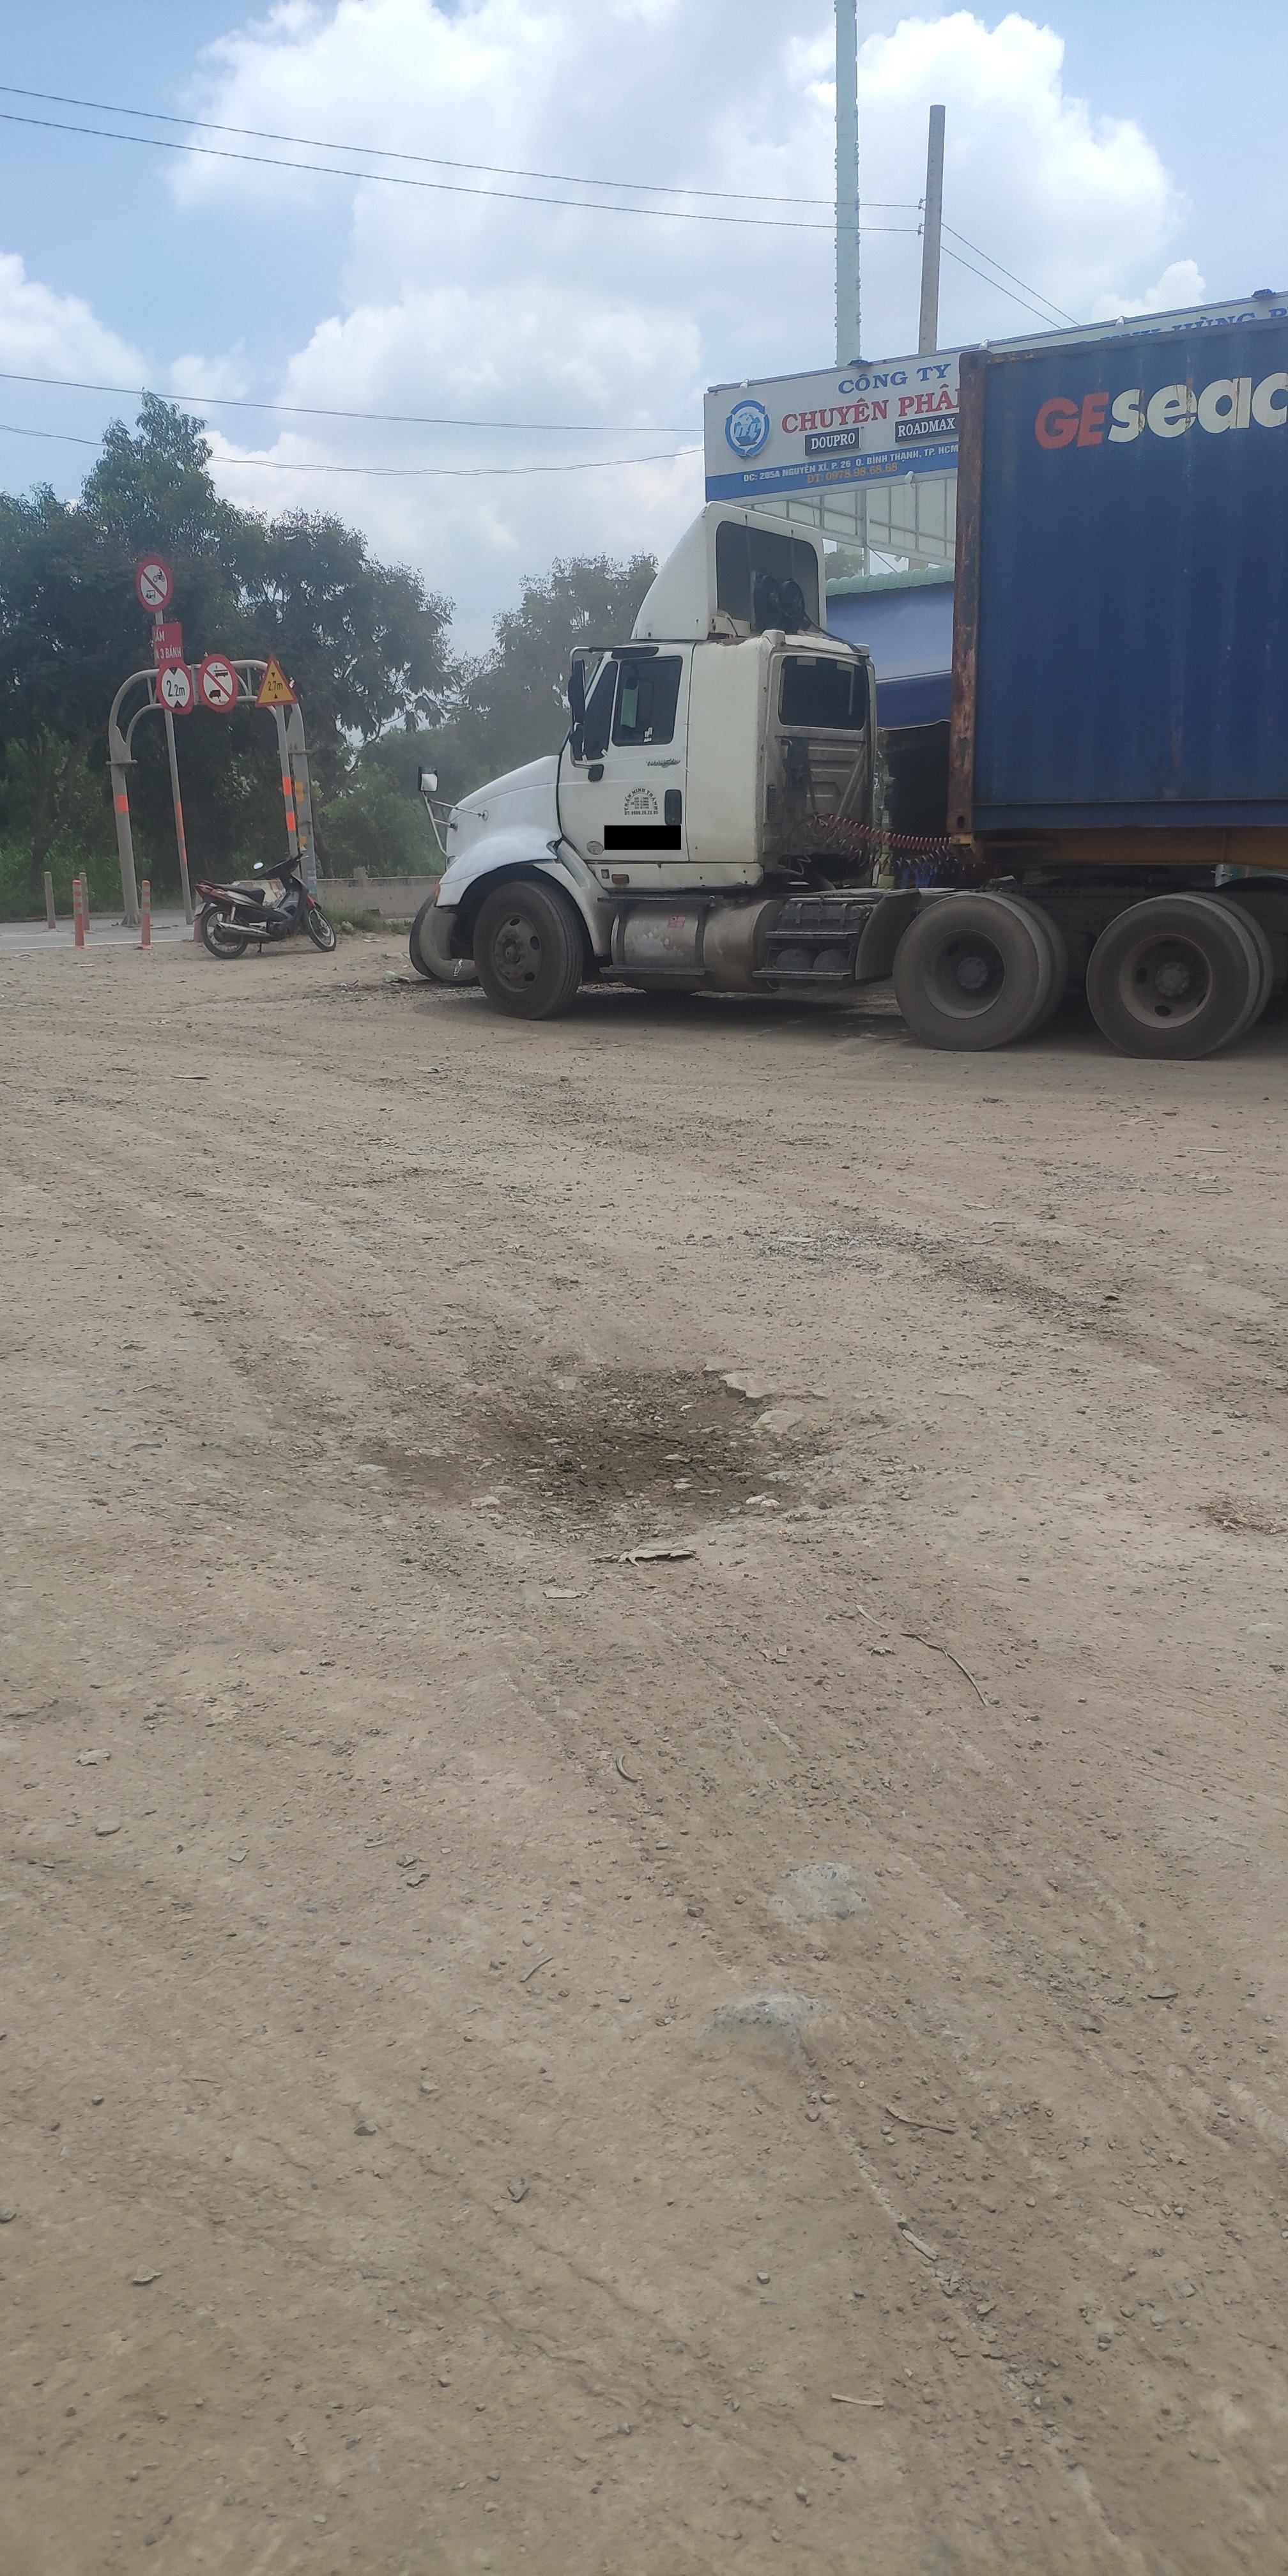hole: (450, 1342, 810, 1562), (1175, 1477, 1288, 1544)
